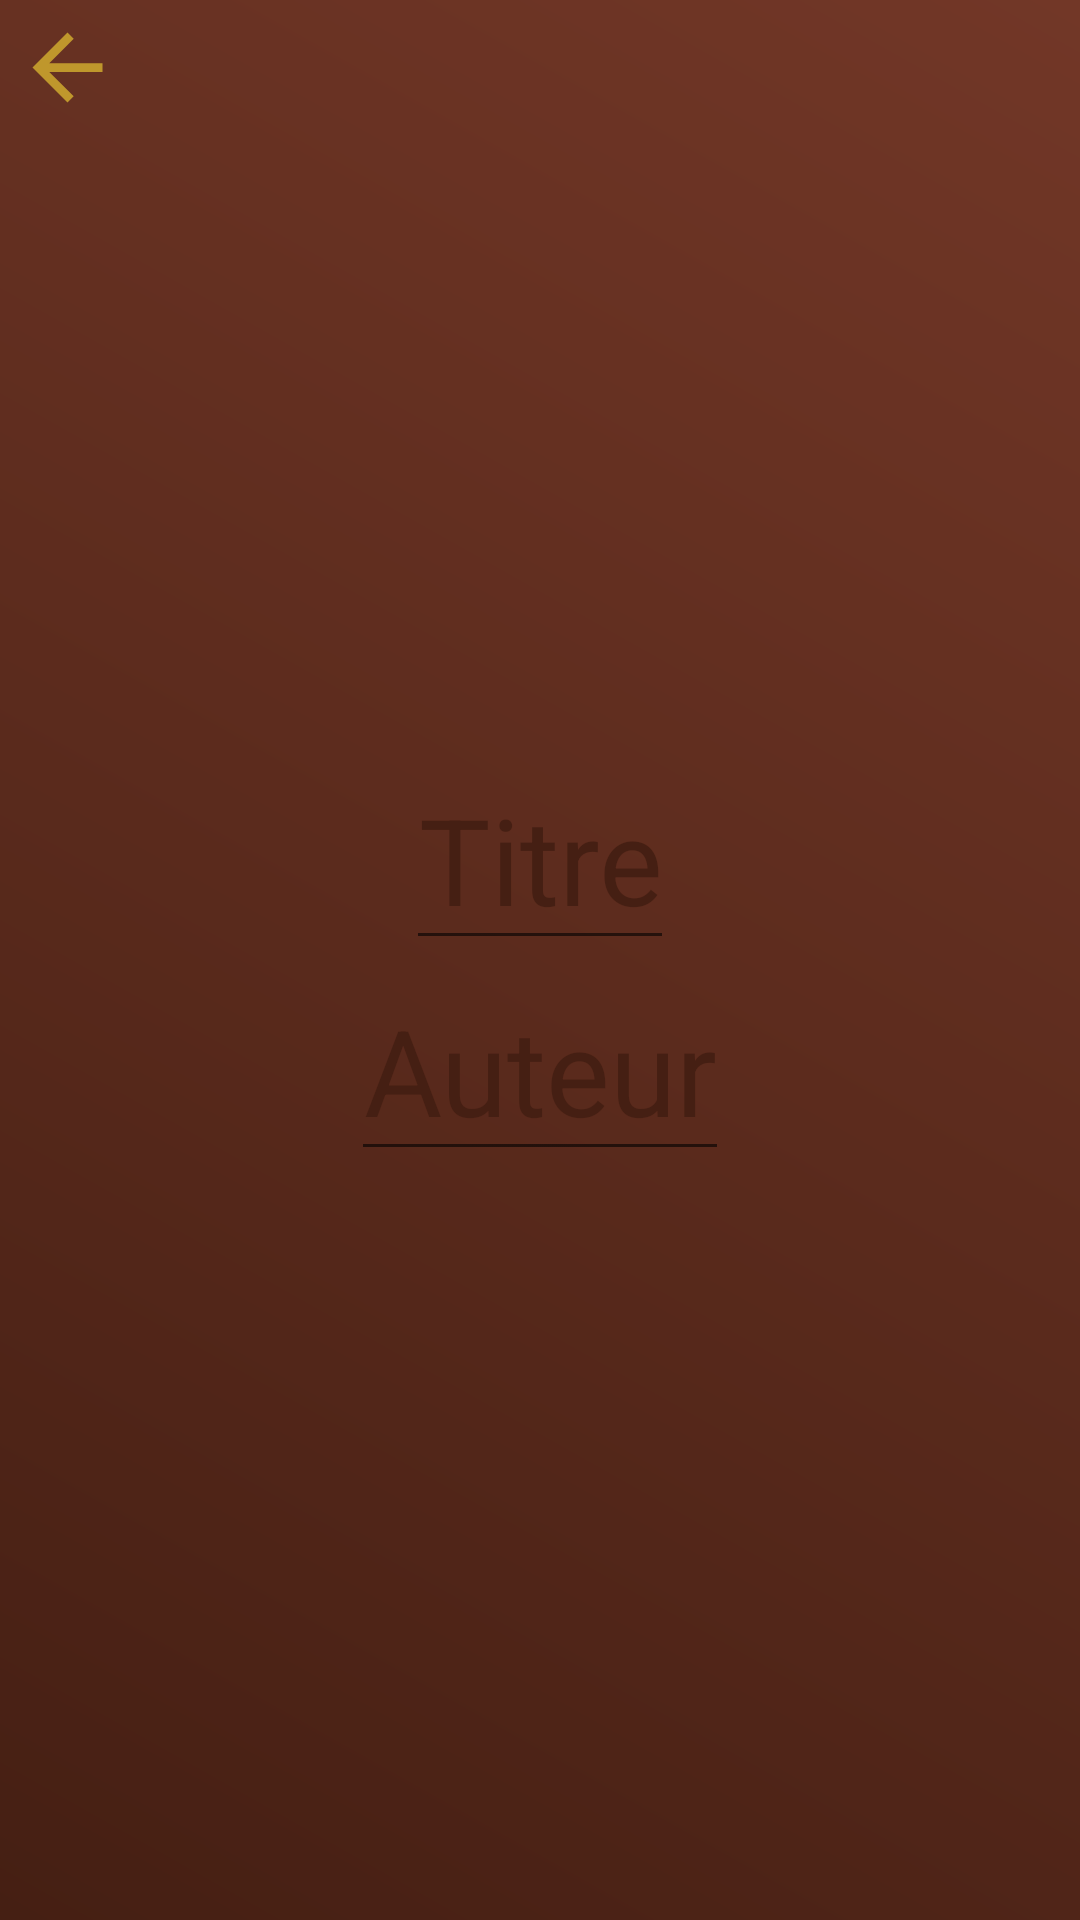

Named icons in this screenshot (1080 × 1920) and their bounding boxes, (x1, y1, x2, y2):
arrow backward: (32, 32, 103, 103)
